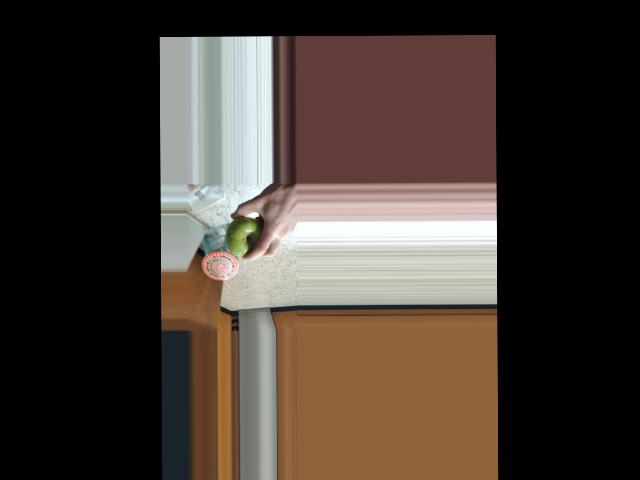apple: (224, 214, 267, 259)
